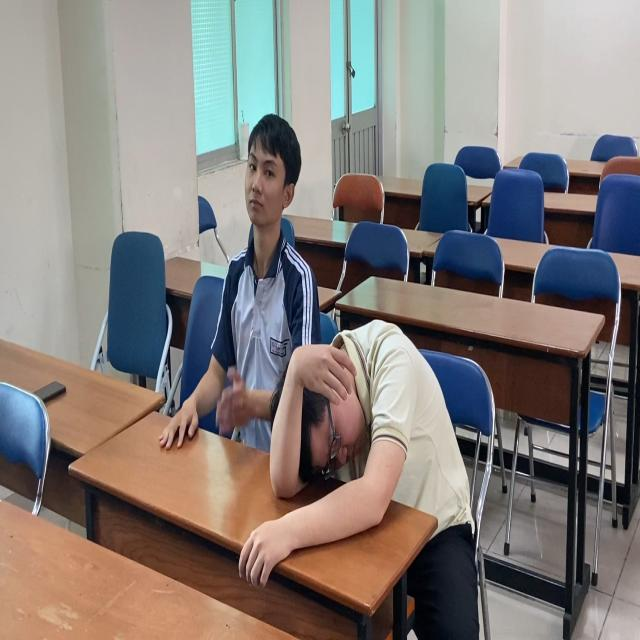sleep: (236, 318, 471, 580)
